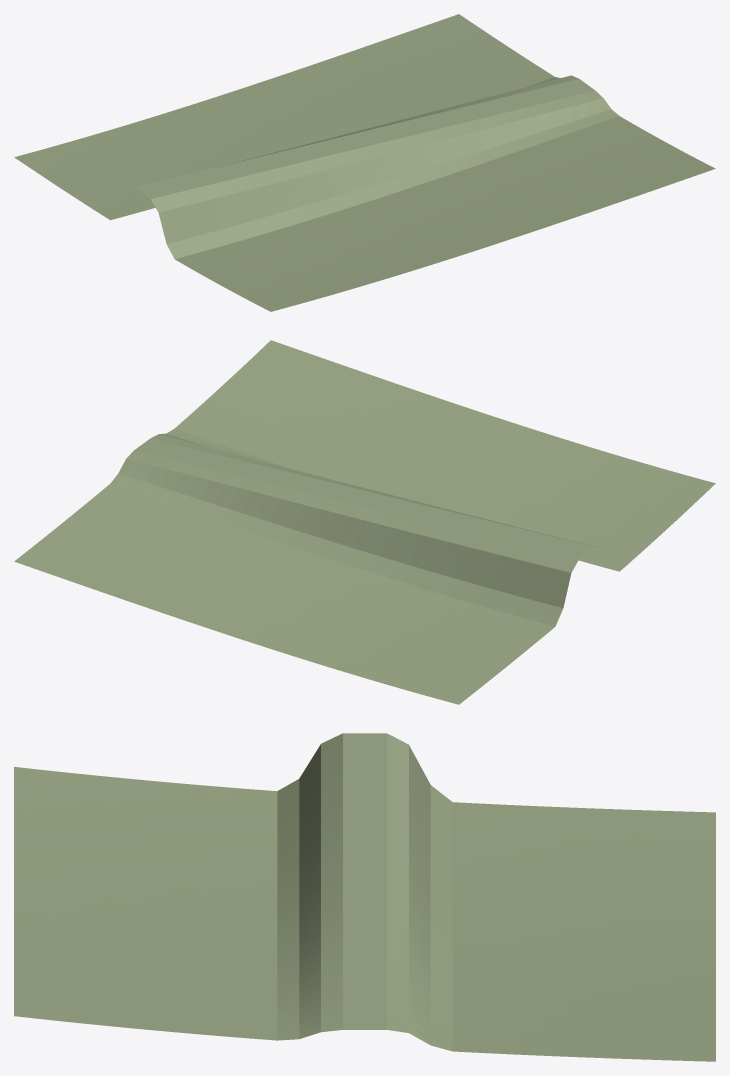
Rendered from valley-9-12.glb.
The picture shows the model from 3 angles, top to bottom: view 1: azimuth 30°, elevation 25°; view 2: azimuth 150°, elevation 25°; view 3: azimuth 270°, elevation 25°; orthographic projection. The views are drawn at different scales.
Parts seen in each view (by area): view 1: valley-9-12; view 2: valley-9-12; view 3: valley-9-12.
Part boxes in pixels (left/top/right/bottom): valley-9-12: left=14, top=14, right=715, bottom=311; valley-9-12: left=14, top=340, right=715, bottom=704; valley-9-12: left=14, top=733, right=715, bottom=1061.
Size of the model in its own units: 256 by 37.4 by 256.
